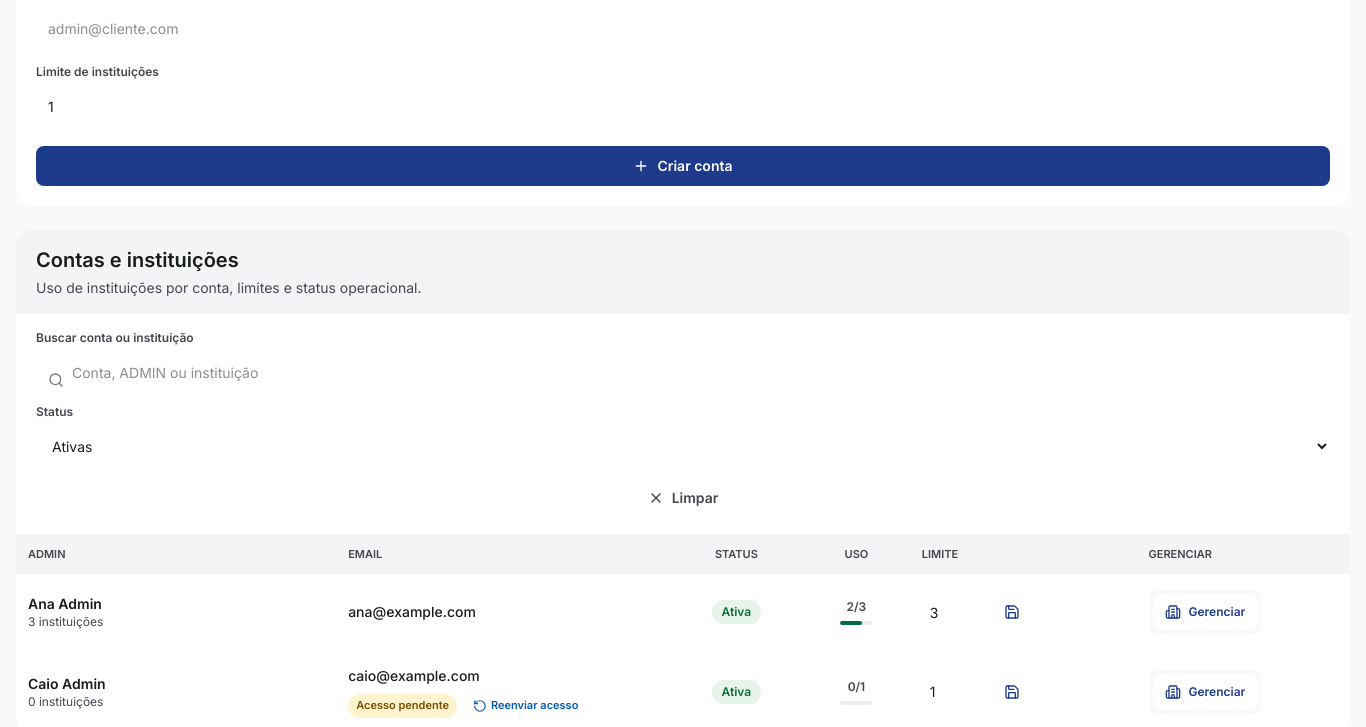
it: PlatformPage › exibe busca, quantidade e somente escolas da conta do ADMIN
(page scrolled)
What coordinates should you click on to do the following:
click the button with aria-label "Gerenciar escolas e ações de Conta Alfa"
I would click on:
 (1205, 612)
Its box is [1152, 594, 1257, 630].
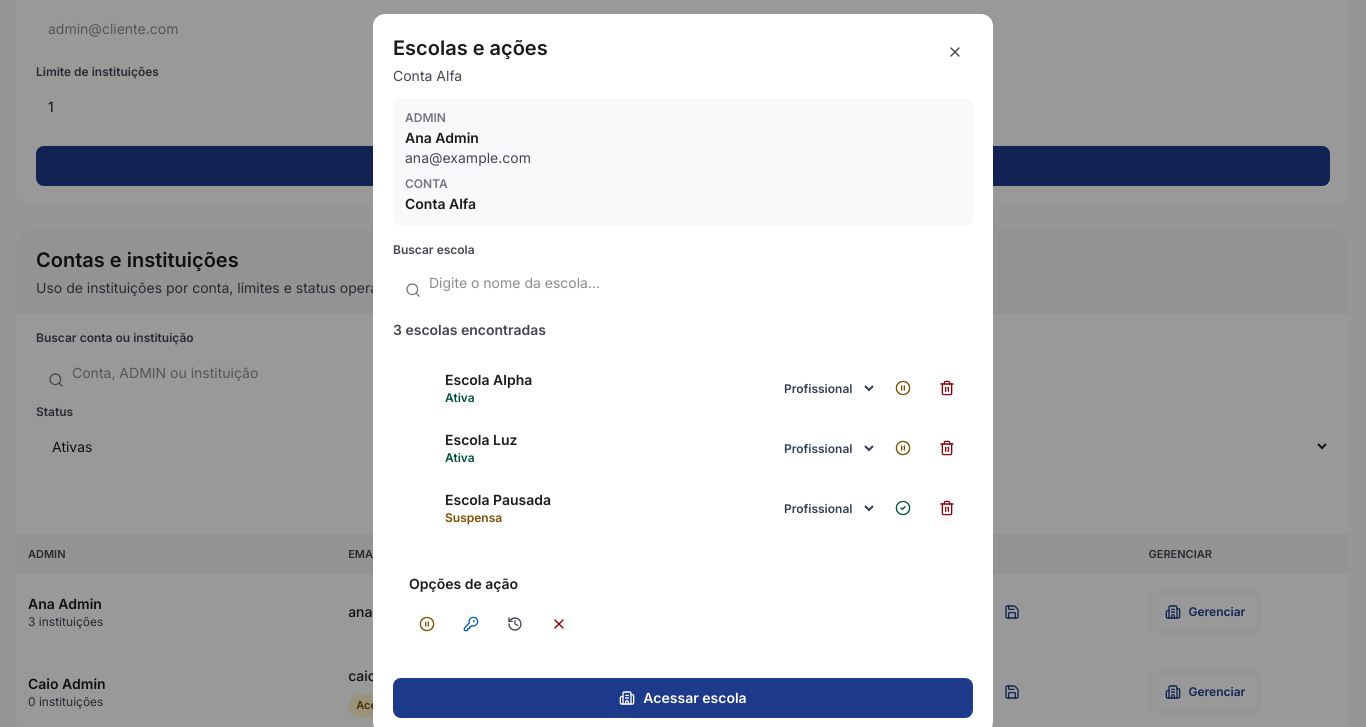
Result: the search field with placeholder "Digite o nome da escola..." is shown at [393, 262, 973, 302]
Result: the text "3 escolas encontradas" is shown at [393, 320, 546, 340]
Result: the text "Escola Alpha" is shown at [445, 370, 532, 390]
